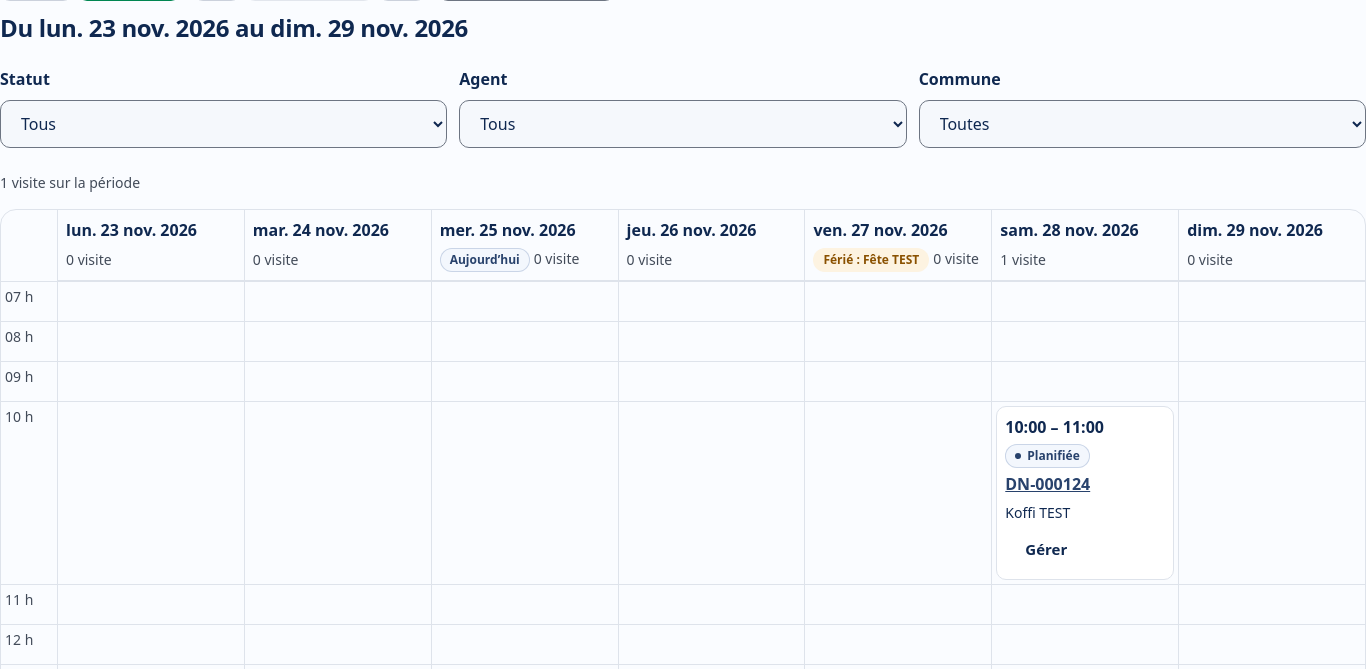
Scenario: calendrier des visites : gestion, états et droits › déplace une visite depuis le calendrier, puis relit le calendrier
Click the button with aria-label "Gérer la visite DN-000124 de 10:00" at (1046, 549), box [1005, 527, 1087, 571]
(page scrolled)
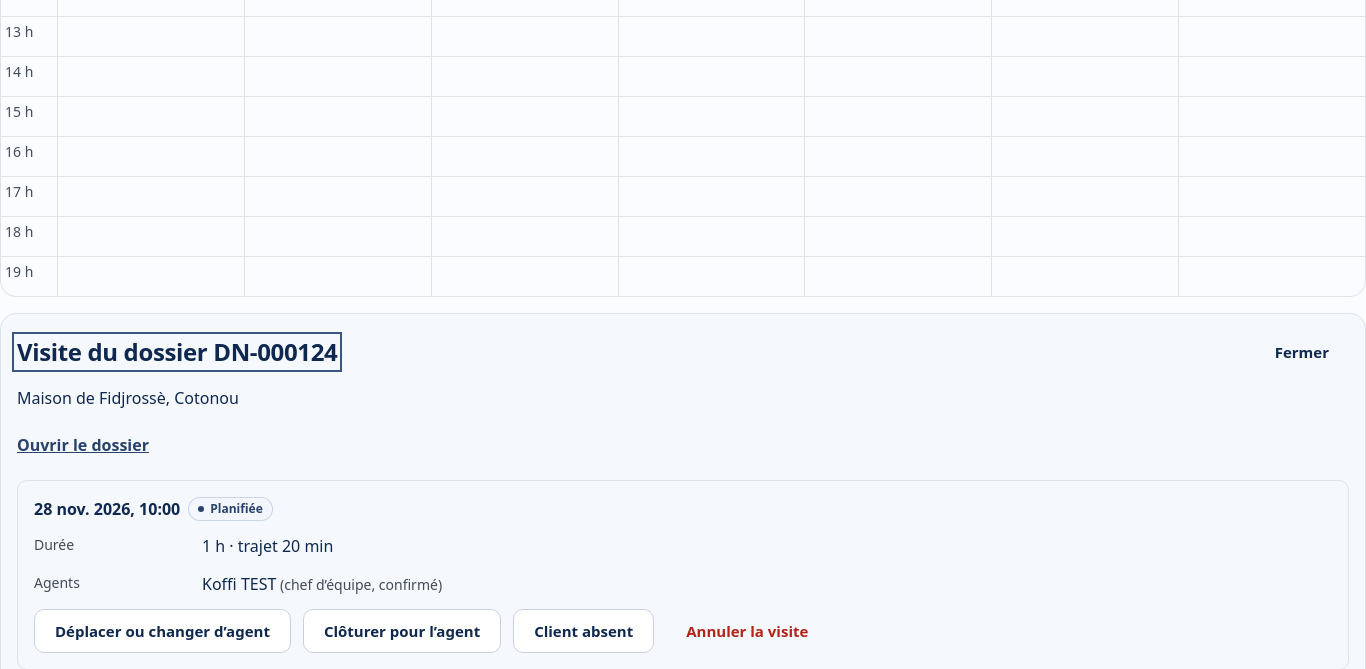
Expected: the text "Maison de Fidjrossè, Cotonou" is shown, [17, 387, 239, 409]
Click the button "Déplacer ou changer d’agent" at (162, 631), box [34, 609, 291, 653]
(page scrolled)
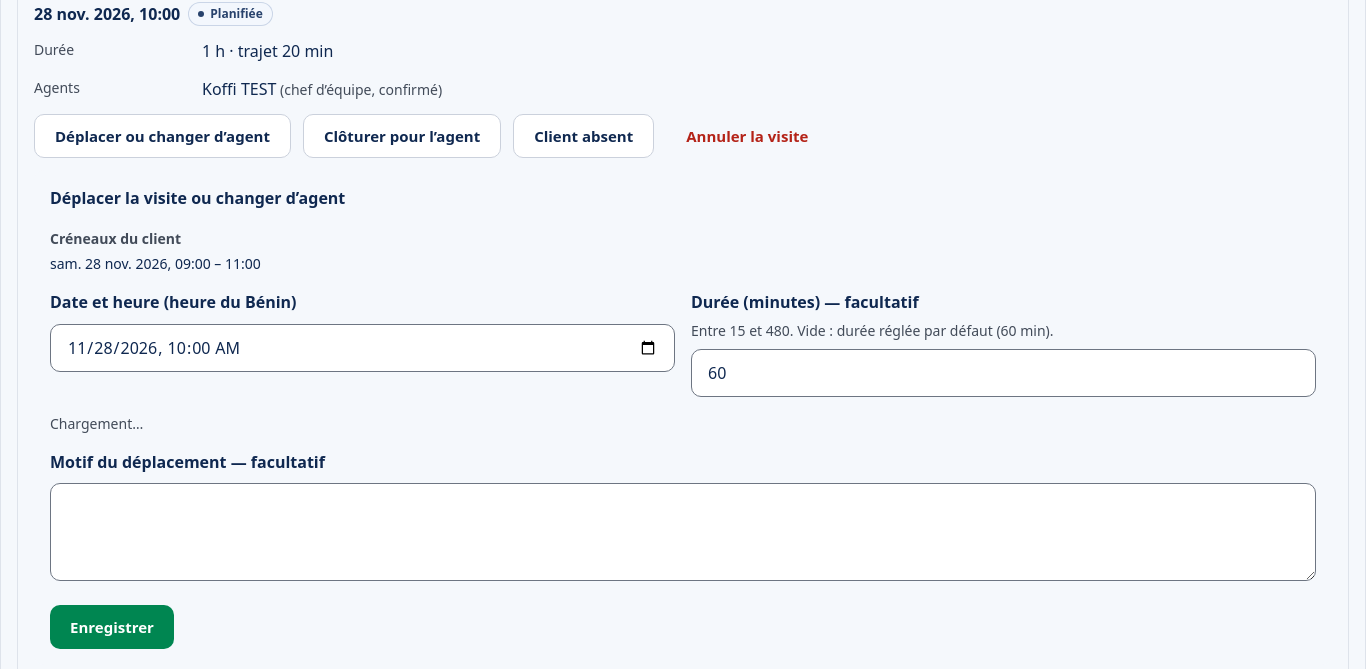
Replace the text in the field labelled "Date et heure (heure du Bénin)" with "2026-11-28T15:00" at (362, 348), box [50, 324, 675, 372]
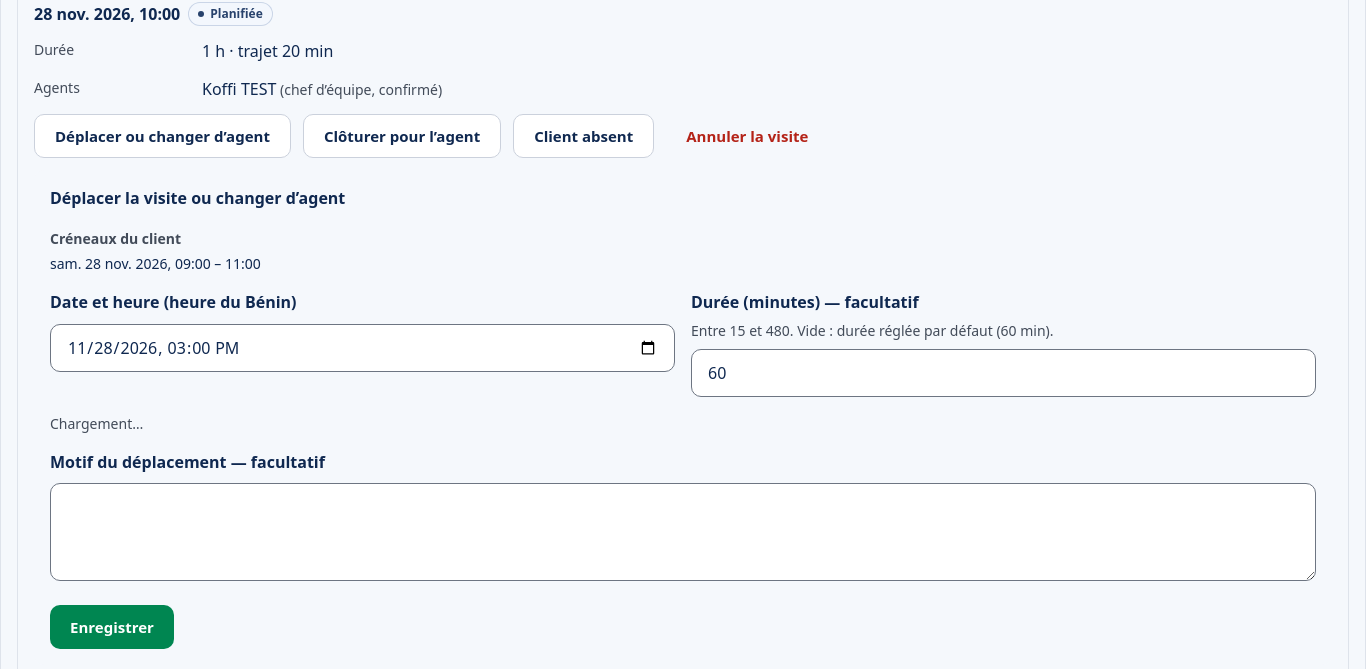
Click the button "Enregistrer" at (112, 627), box [50, 605, 174, 649]
(page scrolled)
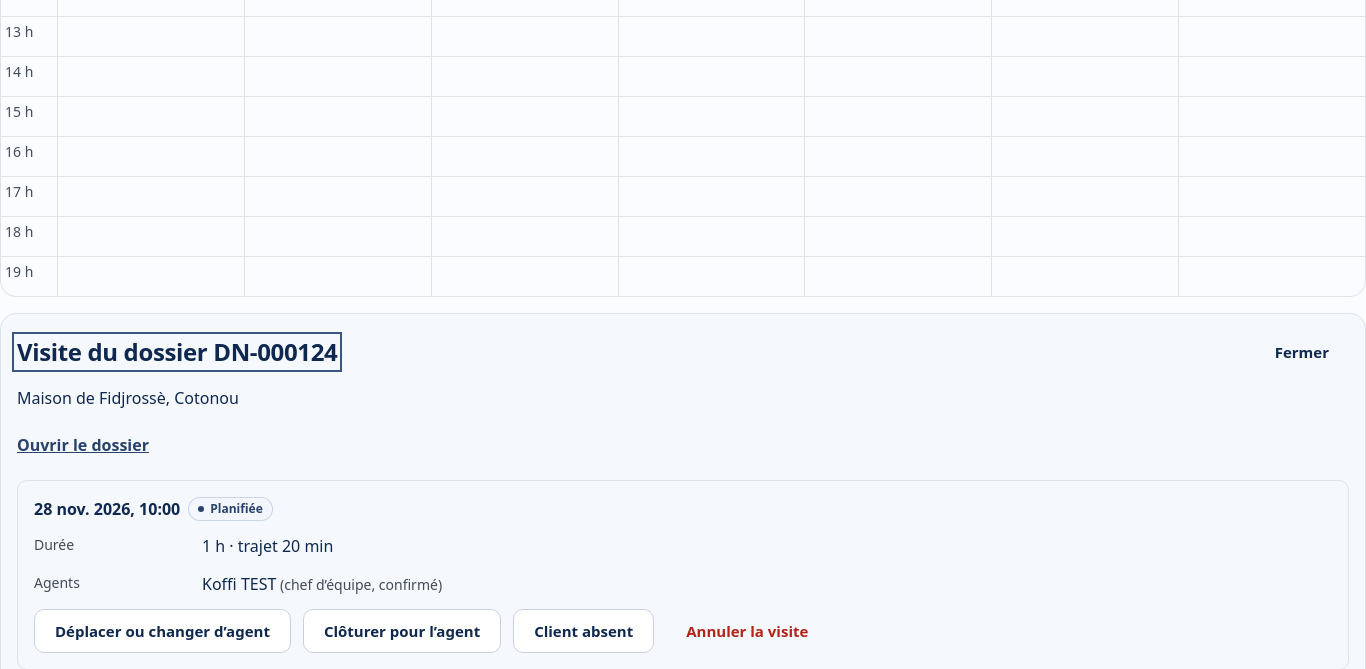
Click the button "Fermer" at (1302, 352), box [1255, 330, 1349, 374]
(page scrolled)
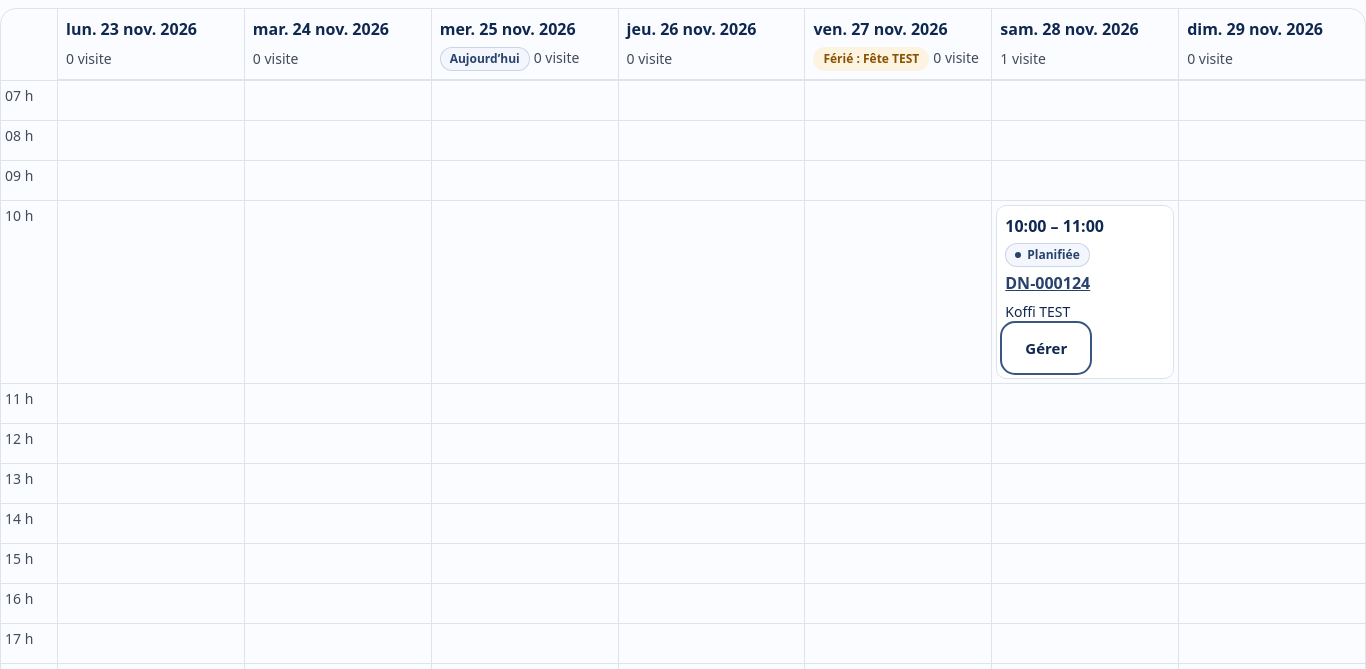
Expected: the heading "Visite du dossier DN-000124" is gone
